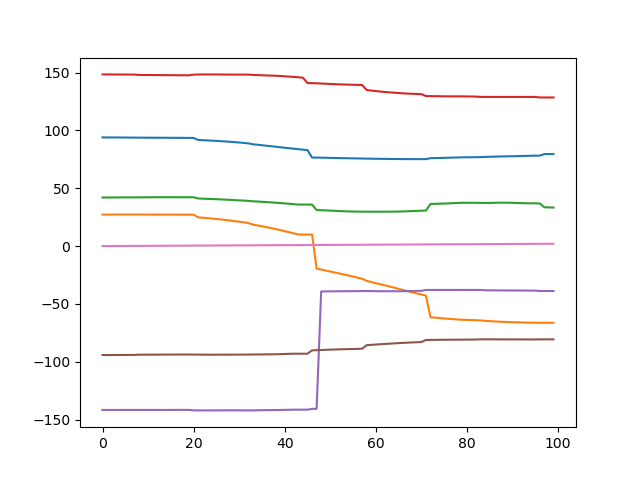Good_Bicep_Curl: (4, 1, 640, 480)
